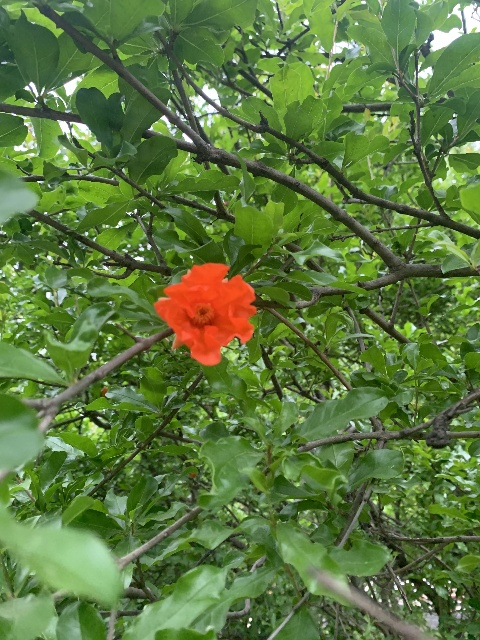flower: (154, 263, 257, 366)
